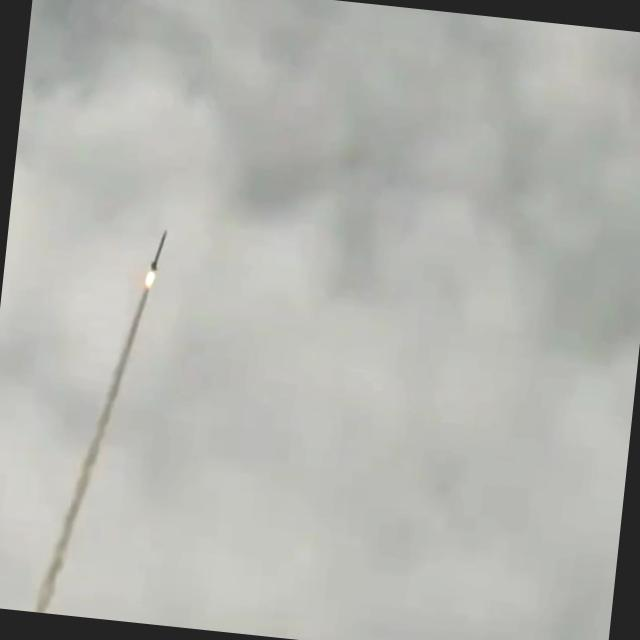smoke_trail_with_rocket: (32, 230, 167, 613)
